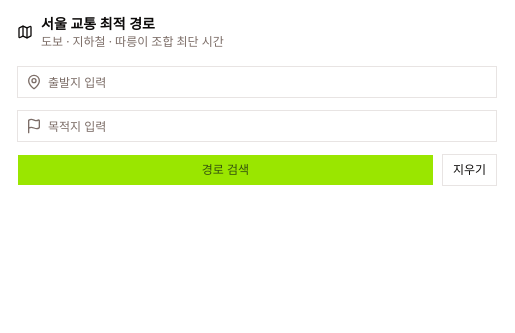
Test case: TransportRouteFinder › shows error message when API fails (Scenario 5)
Type "서울역" into the field with placeholder "출발지 입력". click: (269, 82)
box: [42,66,496,98]
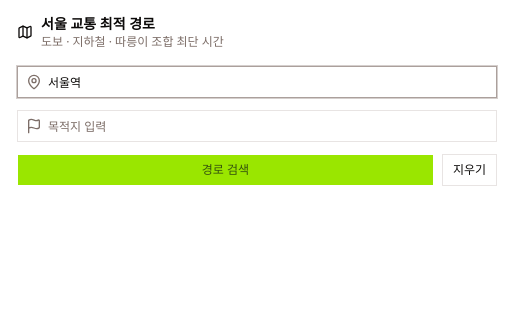
Type "강남역" into the field with placeholder "목적지 입력". click: (269, 126)
box: [42,110,496,142]
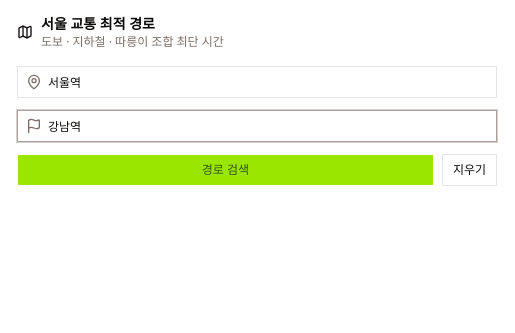
Click the button "경로 검색". click: (225, 170)
box: [17,154,434,186]
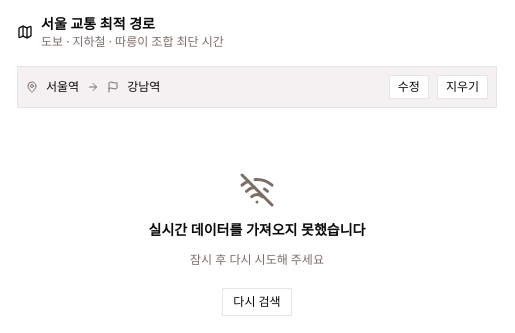
Expected: the text "실시간 데이터를 가져오지 못했습니다" is shown, [148,220,366,240]
